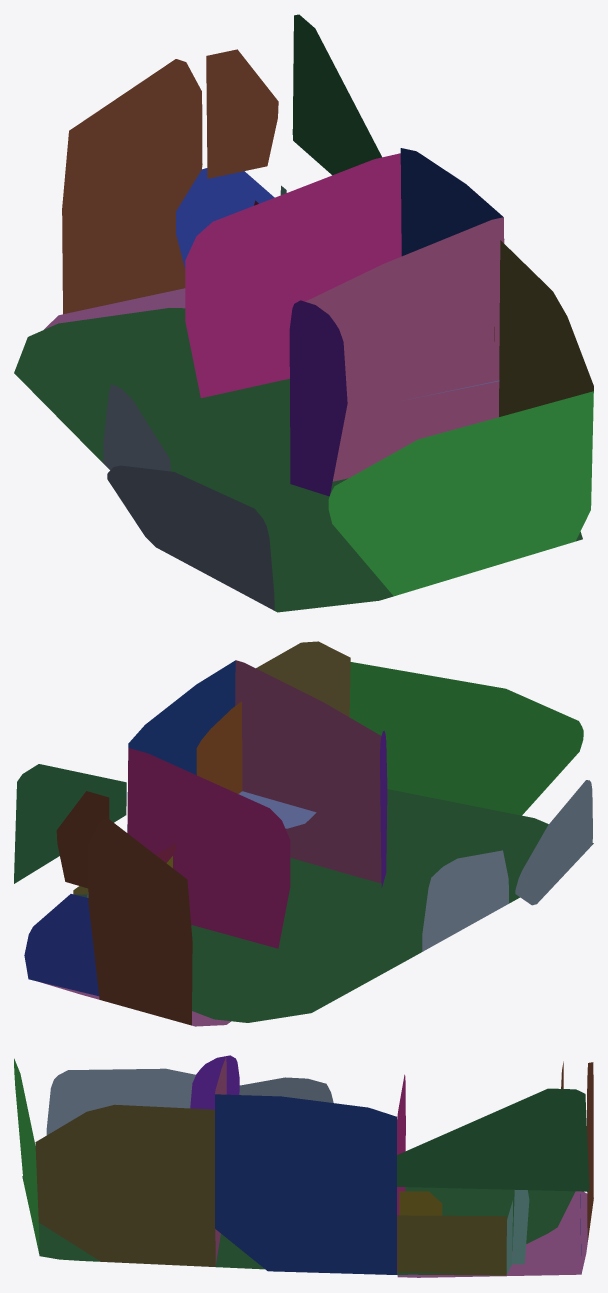
File: PlanarRecon-scene0084_00.glb
The picture shows the model from 3 angles, top to bottom: view 1: azimuth 30°, elevation 25°; view 2: azimuth 150°, elevation 25°; view 3: azimuth 270°, elevation 25°; orthographic projection. The views are drawn at different scales.
Parts seen in each view (by area): view 1: scannetv2_scene0084_00_PlanarRecon; view 2: scannetv2_scene0084_00_PlanarRecon; view 3: scannetv2_scene0084_00_PlanarRecon.
Part boxes in pixels (bbox=[...]): scannetv2_scene0084_00_PlanarRecon: bbox=[14, 14, 593, 612]; scannetv2_scene0084_00_PlanarRecon: bbox=[14, 641, 593, 1026]; scannetv2_scene0084_00_PlanarRecon: bbox=[14, 1055, 593, 1277].
Size of the model in its own units: 3.13 by 1.86 by 5.03.
